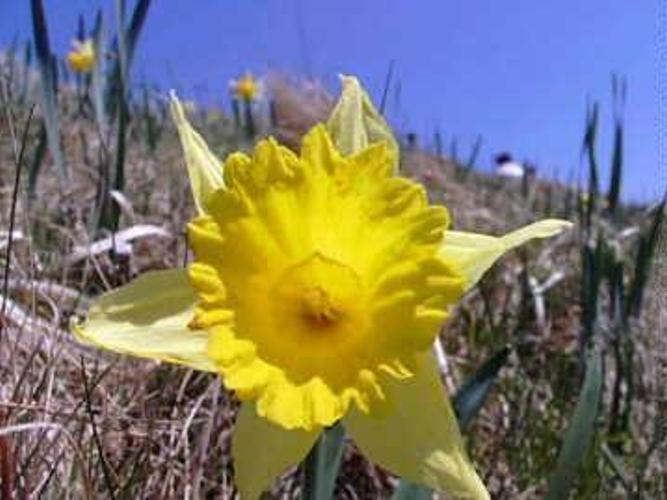flower1: (68, 74, 575, 500)
